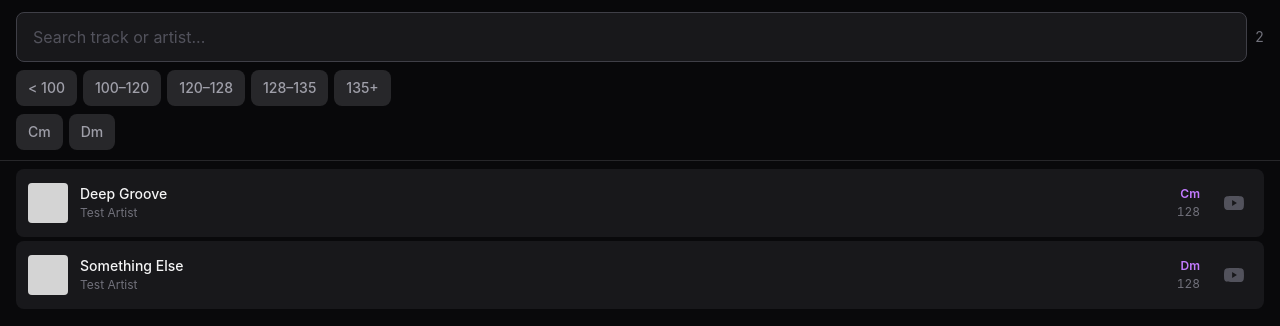
Test: App — search › filters by title case-insensitively
In the field with placeholder "Search track or artist...": (631, 37) [16,12,1247,62], type "groove"
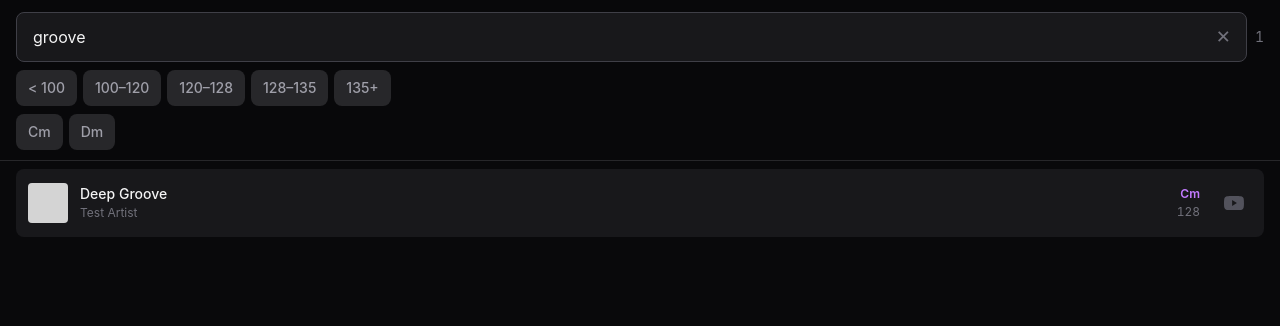
expect the number of "TrackCard" components is 1: met, box [16,169,1264,237]
